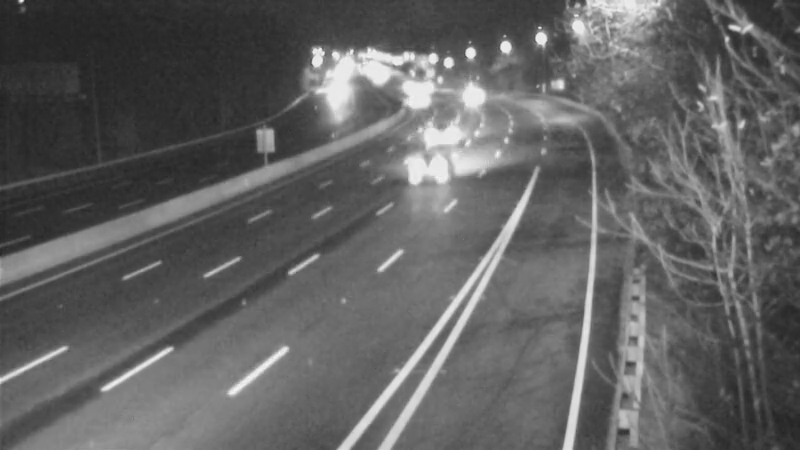vehicle: (383, 134, 463, 214), (445, 67, 495, 117), (392, 77, 442, 127), (409, 104, 459, 154)
